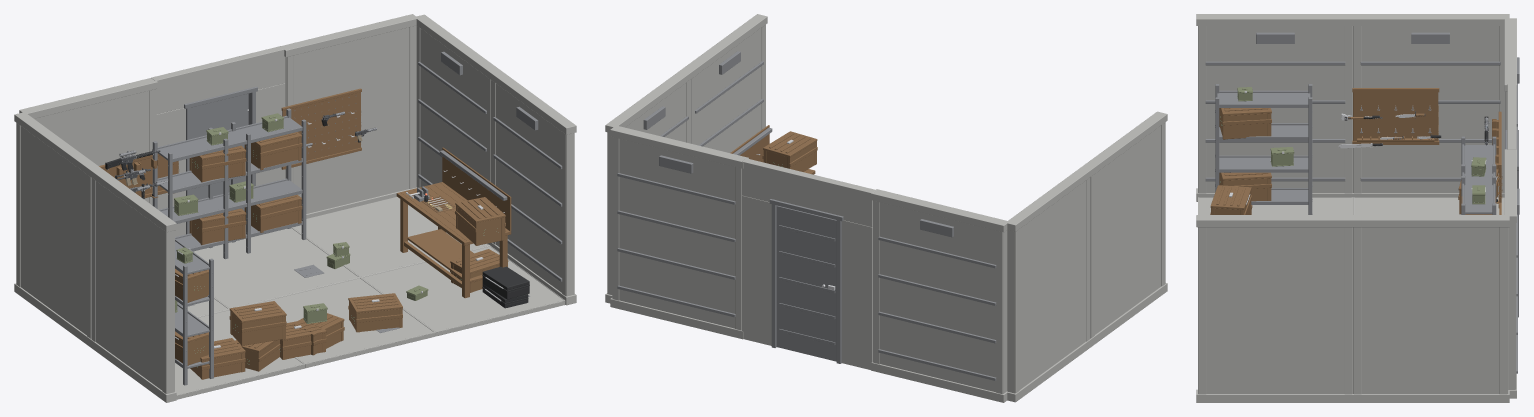
The model's file is mega-weapon-pack-armoury-room-d51a7fc6-starter-scene__33460.glb.
The picture shows the model from 3 angles, left to right: view 1: azimuth 30°, elevation 25°; view 2: azimuth 150°, elevation 25°; view 3: azimuth 270°, elevation 25°; orthographic projection. The views are drawn at different scales.
Parts seen in each view (by area): view 1: 008-armoury-wall-panel/0, 011-armoury-wall-panel/0, 009-armoury-wall-panel/0, 012-armoury-wall-panel/0, 010-armoury-wall-panel/0, 007-armoury-door/0, 006-armoury-wall-panel/0, 002-armoury-floor-tile/0, 005-armoury-floor-tile/0, 039-gunsmith-bench/0, 004-armoury-floor-tile/0, 003-armoury-floor-tile/0 (+30 smaller); view 2: 006-armoury-wall-panel/0, 008-armoury-wall-panel/0, 009-armoury-wall-panel/0, 011-armoury-wall-panel/0, 007-armoury-door/0, 007-armoury-door/door-main/alloyDark, 012-armoury-wall-panel/0, 010-armoury-wall-panel/0, 008-armoury-wall-panel/1, 006-armoury-wall-panel/1, 007-armoury-door/1, 012-armoury-wall-panel/1 (+3 smaller); view 3: 010-armoury-wall-panel/0, 012-armoury-wall-panel/0, 009-armoury-wall-panel/0, 011-armoury-wall-panel/0, 056-armoury-shelf-unit/0, 032-melee-wall-rack/0, 008-armoury-wall-panel/0, 011-armoury-wall-panel/1, 009-armoury-wall-panel/1, 000-armoury-floor-tile/0, 001-armoury-floor-tile/0, 059-ammo-crate/0 (+13 smaller).
Boxes of the visible parts, left/top/right/bottom form: 008-armoury-wall-panel/0: left=282, top=14, right=417, bottom=218; 011-armoury-wall-panel/0: left=89, top=167, right=176, bottom=402; 009-armoury-wall-panel/0: left=14, top=112, right=100, bottom=347; 012-armoury-wall-panel/0: left=490, top=70, right=576, bottom=305; 010-armoury-wall-panel/0: left=415, top=14, right=500, bottom=245; 007-armoury-door/0: left=151, top=46, right=285, bottom=236; 006-armoury-wall-panel/0: left=19, top=78, right=157, bottom=205; 002-armoury-floor-tile/0: left=193, top=227, right=359, bottom=308; 005-armoury-floor-tile/0: left=361, top=245, right=565, bottom=336; 039-gunsmith-bench/0: left=396, top=147, right=511, bottom=298; 004-armoury-floor-tile/0: left=293, top=197, right=489, bottom=276; 003-armoury-floor-tile/0: left=240, top=277, right=435, bottom=368; 006-armoury-wall-panel/0: left=871, top=189, right=1008, bottom=402; 008-armoury-wall-panel/0: left=610, top=125, right=748, bottom=339; 009-armoury-wall-panel/0: left=1007, top=166, right=1092, bottom=402; 011-armoury-wall-panel/0: left=1081, top=111, right=1167, bottom=345; 007-armoury-door/0: left=742, top=158, right=876, bottom=369; 007-armoury-door/door-main/alloyDark: left=776, top=205, right=836, bottom=361; 012-armoury-wall-panel/0: left=681, top=14, right=767, bottom=152; 010-armoury-wall-panel/0: left=605, top=70, right=692, bottom=303; 008-armoury-wall-panel/1: left=617, top=155, right=735, bottom=317; 006-armoury-wall-panel/1: left=878, top=219, right=996, bottom=380; 007-armoury-door/1: left=769, top=199, right=843, bottom=363; 012-armoury-wall-panel/1: left=695, top=51, right=763, bottom=146; 010-armoury-wall-panel/0: left=1351, top=215, right=1509, bottom=402; 012-armoury-wall-panel/0: left=1196, top=215, right=1354, bottom=402; 009-armoury-wall-panel/0: left=1351, top=14, right=1509, bottom=197; 011-armoury-wall-panel/0: left=1196, top=14, right=1354, bottom=201; 056-armoury-shelf-unit/0: left=1215, top=84, right=1312, bottom=214; 032-melee-wall-rack/0: left=1352, top=88, right=1439, bottom=144; 008-armoury-wall-panel/0: left=1504, top=149, right=1516, bottom=398; 011-armoury-wall-panel/1: left=1205, top=32, right=1345, bottom=181; 009-armoury-wall-panel/1: left=1360, top=32, right=1500, bottom=181; 000-armoury-floor-tile/0: left=1353, top=197, right=1504, bottom=214; 001-armoury-floor-tile/0: left=1198, top=197, right=1352, bottom=214; 059-ammo-crate/0: left=1219, top=108, right=1271, bottom=139.
Bounding box in the file's own units: 6.29 × 2.6 × 4.17.
